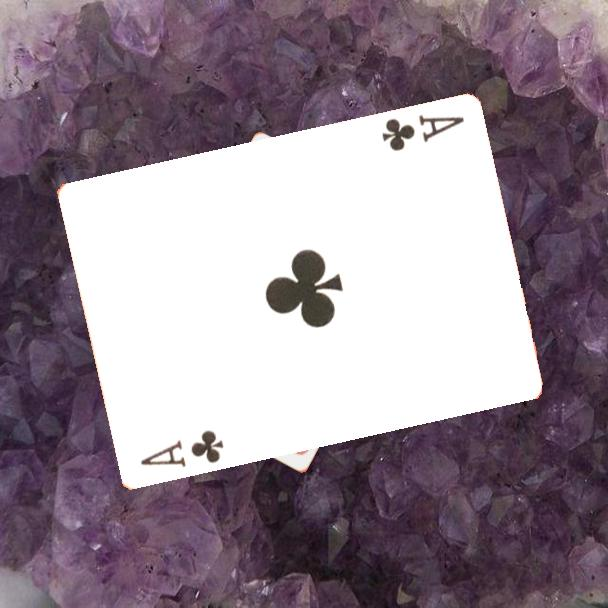c01: (136, 427, 226, 471), (377, 111, 467, 155)
